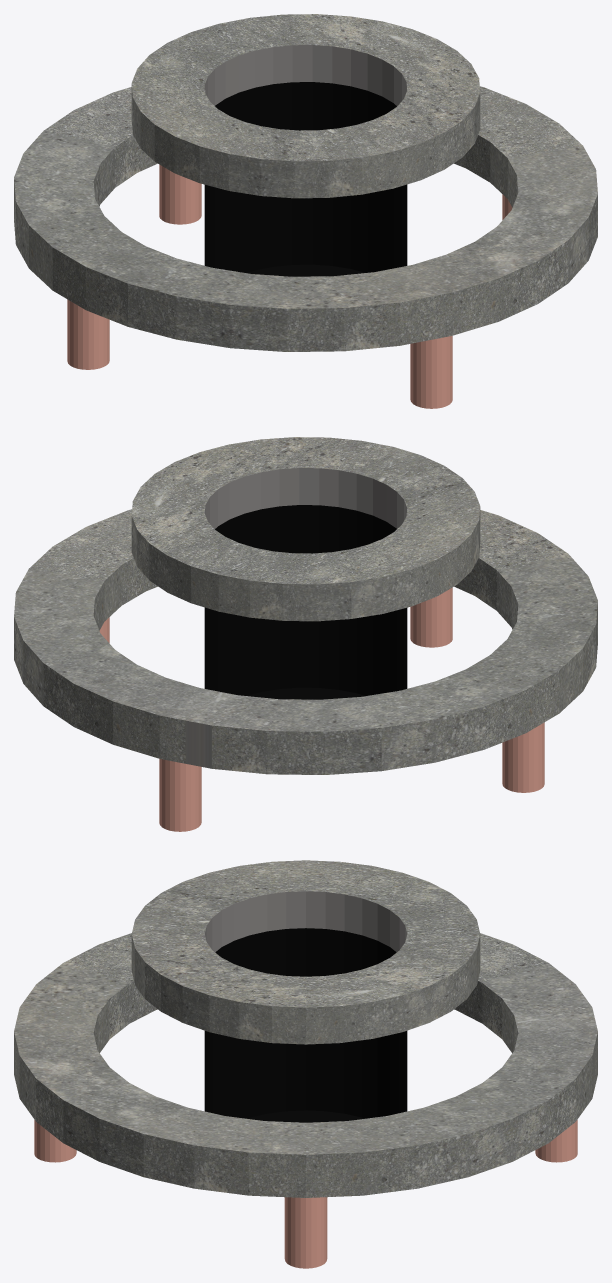
File: mesaysillaredonda.fbx
The picture shows the model from 3 angles, top to bottom: view 1: azimuth 30°, elevation 25°; view 2: azimuth 150°, elevation 25°; view 3: azimuth 270°, elevation 25°; orthographic projection.
Visible parts, largest first — view 1: Cylinder.001, Cylinder; view 2: Cylinder.001, Cylinder; view 3: Cylinder.001, Cylinder.
Part boxes in pixels (box(x1,y1,x2,y2)): Cylinder.001: box(14, 86, 597, 408); Cylinder: box(131, 14, 480, 276); Cylinder.001: box(14, 509, 597, 831); Cylinder: box(131, 437, 480, 699); Cylinder.001: box(14, 933, 597, 1268); Cylinder: box(131, 860, 480, 1122).
Bounding box in the file's own units: 431 × 179 × 431.
